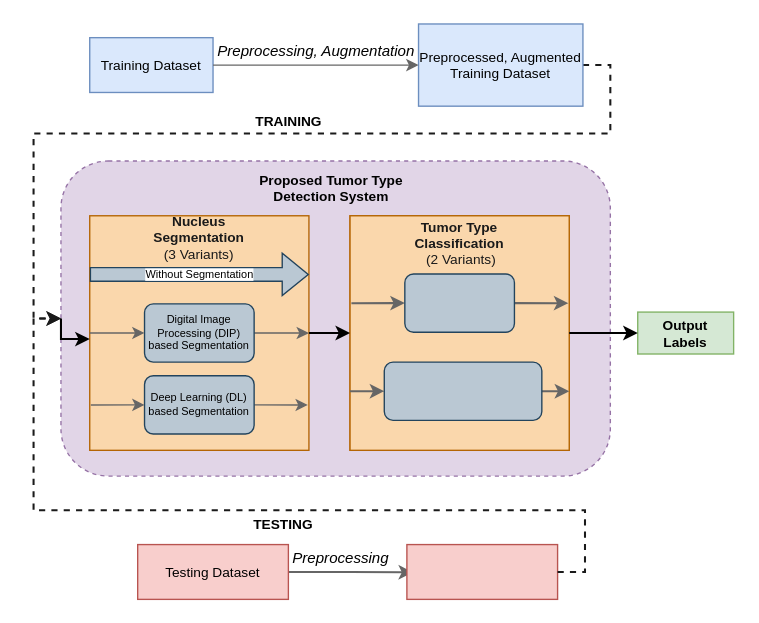
Some shapes in this 759 by 623 pixel diagram are drawn without their labels. Here are the shapes that lost their labels. From the top down, the centre of each, then its label:
the point at 458,302: Benign / Malignant Classifier
the point at 462,390: Adenocarcinoma / Squamous-Cell Carcinoma / Benign Classifier
the point at 482,571: Preprocessed Testing Dataset
